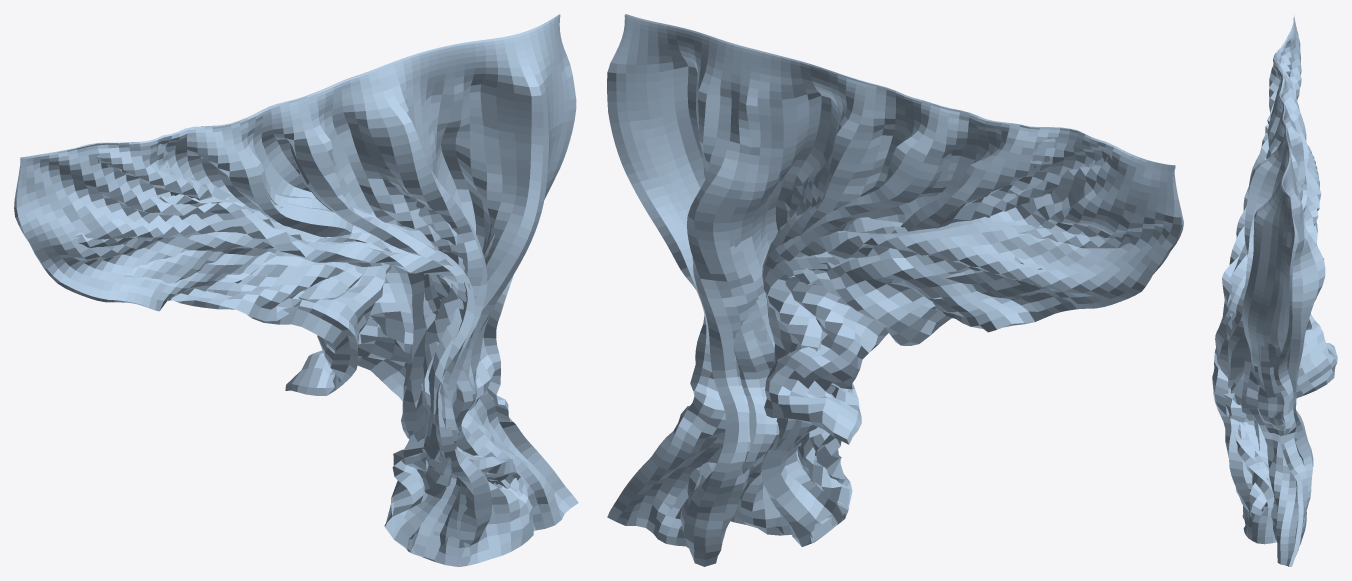
File: shower_curtain_pulled.glb
3 views of the same model, side by side, from view 1: azimuth 30°, elevation 25°; view 2: azimuth 150°, elevation 25°; view 3: azimuth 270°, elevation 25° (orthographic). The views are drawn at different scales.
Visible parts, largest first — view 1: Cube.011; view 2: Cube.011; view 3: Cube.011.
Boxes of the visible parts, x1=… form: Cube.011: x1=14, y1=14, x2=578, y2=566; Cube.011: x1=607, y1=14, x2=1183, y2=566; Cube.011: x1=1212, y1=15, x2=1337, y2=566.
Bounding box in the file's own units: 3.48 × 3.05 × 0.9145.
